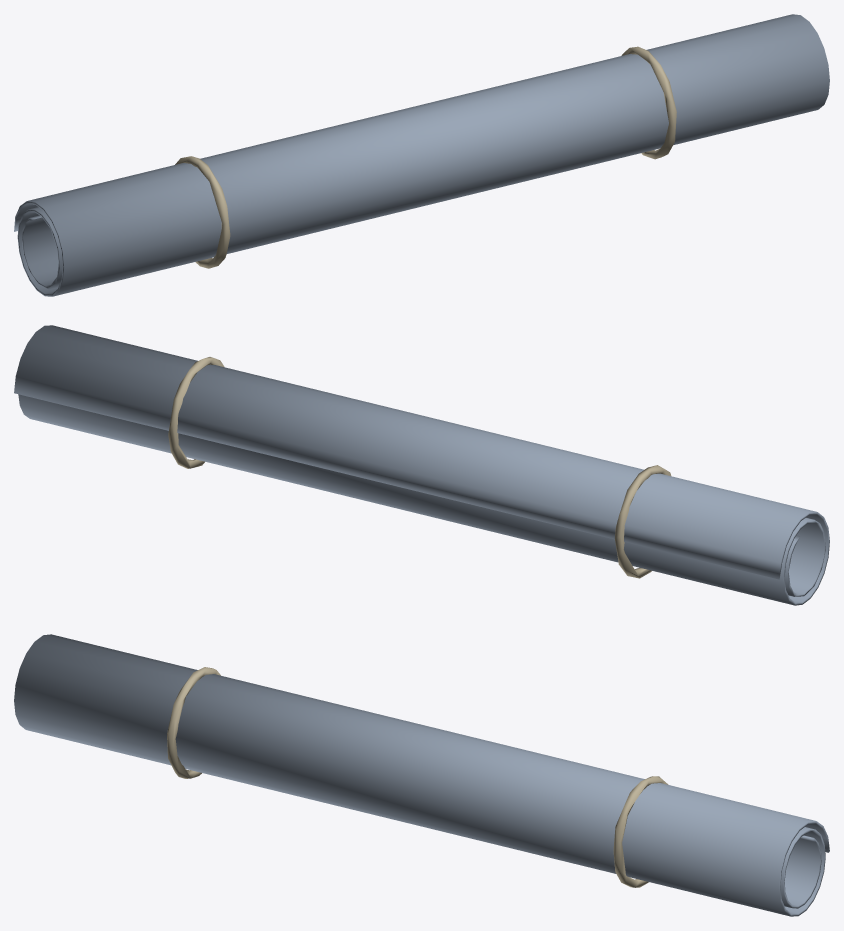
Rendered from bat_cuon.glb.
3 views of the same model, one above another, from view 1: azimuth 30°, elevation 25°; view 2: azimuth 150°, elevation 25°; view 3: azimuth 330°, elevation 25° (orthographic).
Visible parts, largest first — view 1: bat_cuon; view 2: bat_cuon; view 3: bat_cuon.
Part boxes in pixels (left/top/right/bottom): bat_cuon: left=14, top=14, right=829, bottom=296; bat_cuon: left=14, top=325, right=829, bottom=605; bat_cuon: left=14, top=634, right=829, bottom=916.
Bounding box in the file's own units: 1.2 × 0.1564 × 0.156.
